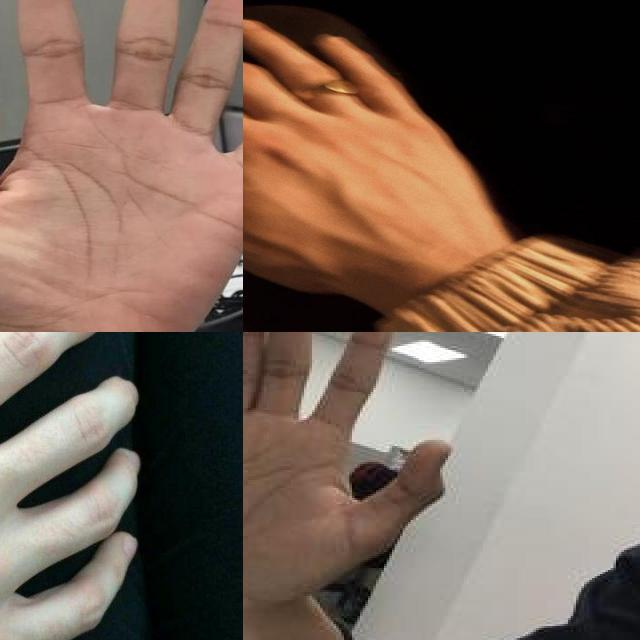no-gloves: (243, 16, 517, 313), (0, 0, 243, 332), (0, 332, 243, 640), (243, 332, 453, 606)
